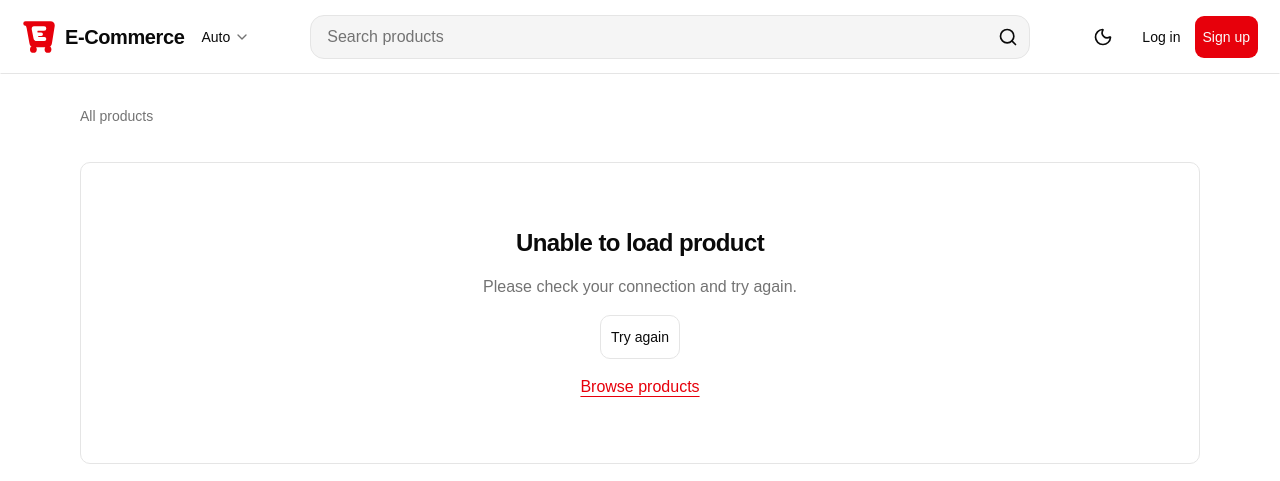
Test: Product Page › distinguishes not found from retryable errors
This screenshot has width=1280, height=481.
expect the heading "Unable to load product" is shown: met, box [516,227,764,259]
Click the button "Try again".
click(640, 337)  # box [600,315,680,359]
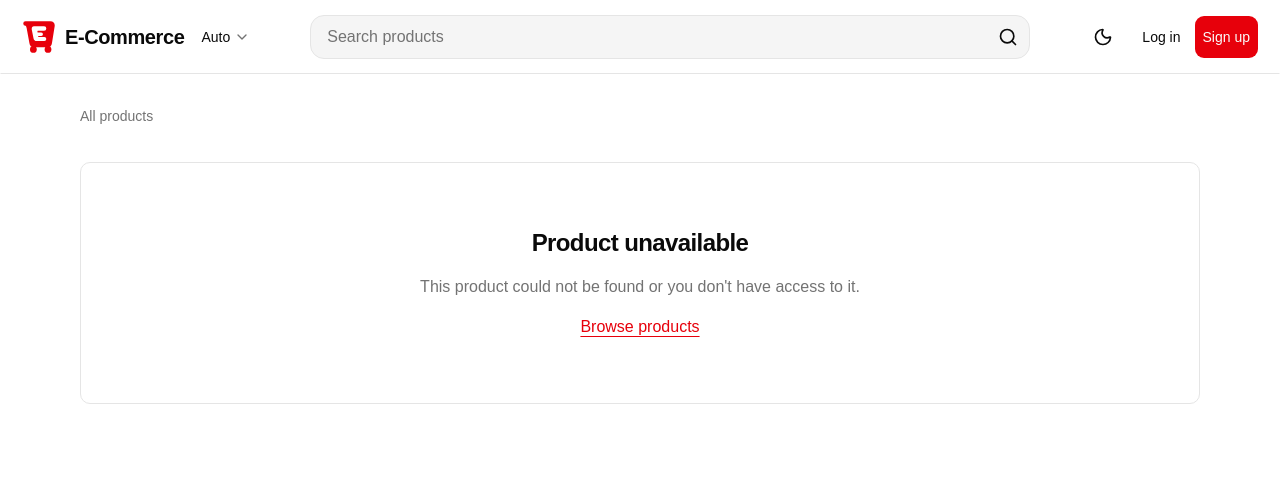
expect the heading "Product unavailable" is shown: met, box [532,227,748,259]
expect the text "try again" is gone: met
